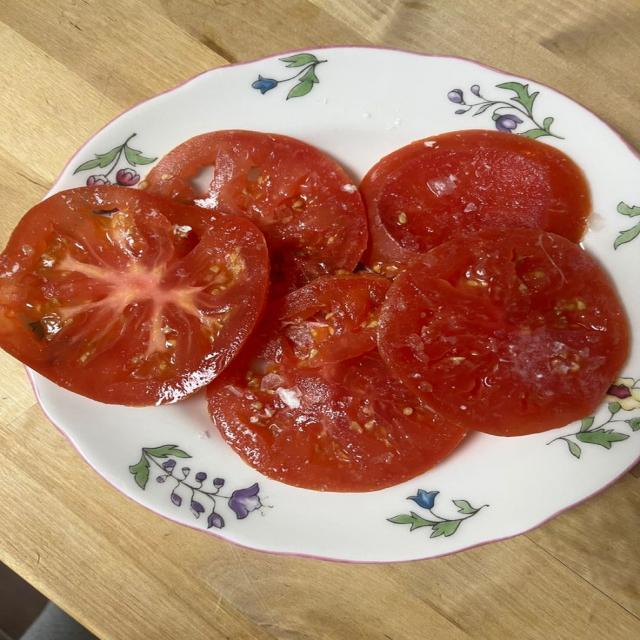sliced_tomato: (0, 186, 268, 405), (379, 229, 628, 435), (207, 308, 466, 491), (140, 130, 366, 293), (361, 130, 591, 275), (272, 275, 389, 367)
